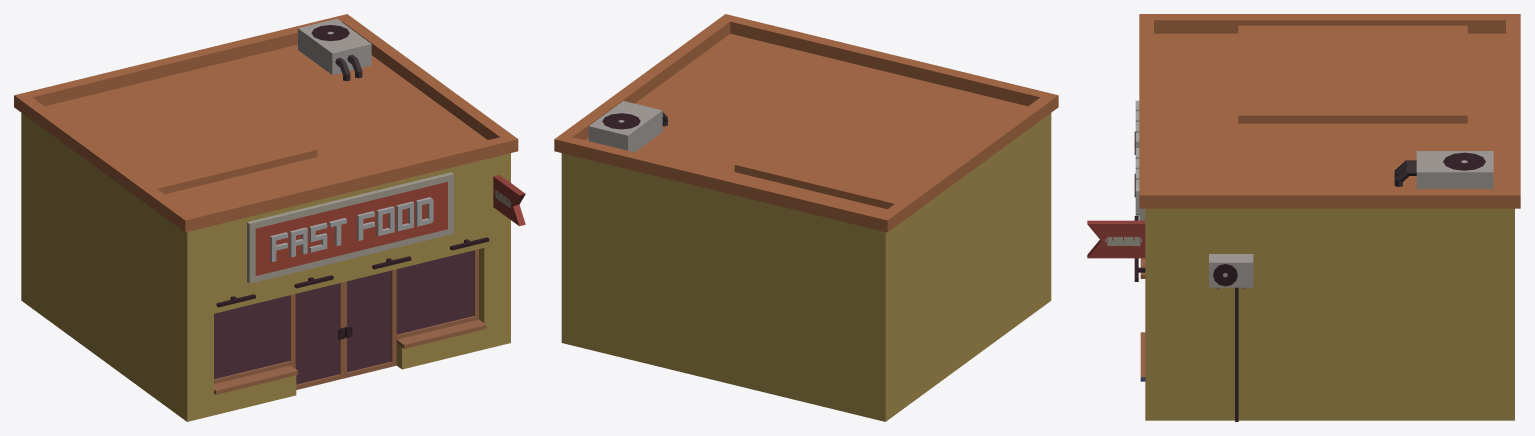
The model's file is Building_2.fbx.
The picture shows the model from 3 angles, left to right: view 1: azimuth 30°, elevation 25°; view 2: azimuth 150°, elevation 25°; view 3: azimuth 270°, elevation 25°; orthographic projection. The views are drawn at different scales.
Parts seen in each view (by area): view 1: Building_2, Building_2LP; view 2: Building_2; view 3: Building_2, Building_2LP.
Boxes of the visible parts, x1,y1,x2,y2 form: Building_2: (14, 14, 525, 421); Building_2LP: (214, 172, 511, 384); Building_2: (554, 14, 1058, 421); Building_2: (1087, 14, 1520, 421); Building_2LP: (1105, 100, 1145, 245).
Bounding box in the file's own units: 9.36 × 5.56 × 9.15.
